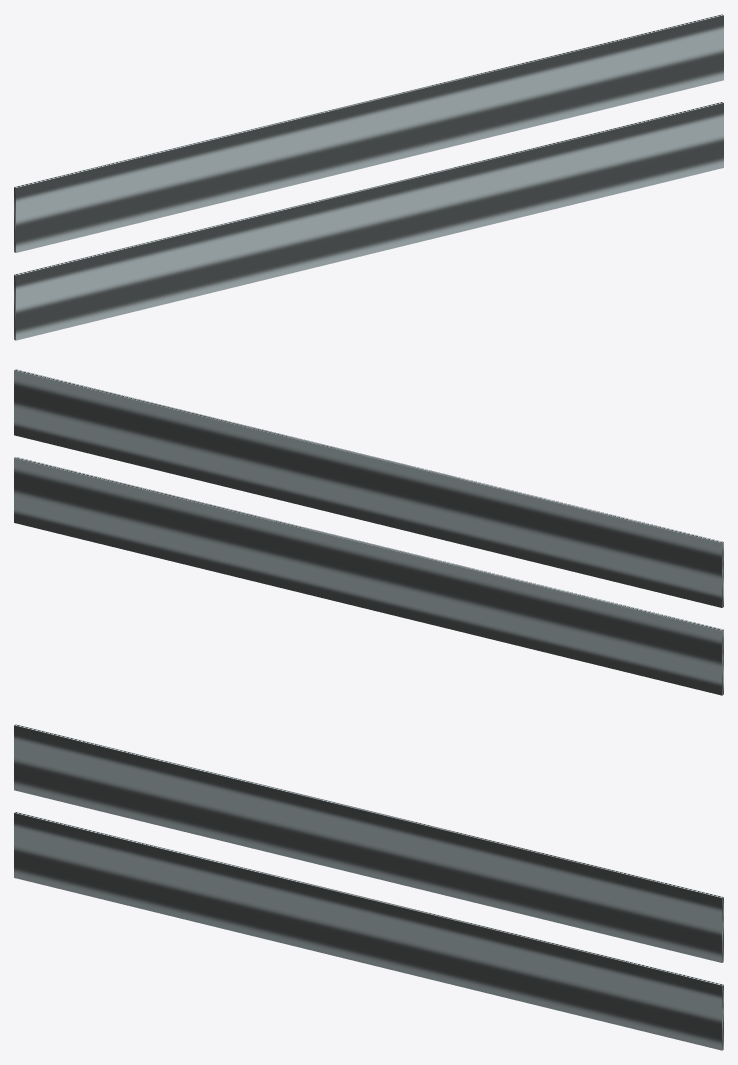
Rendered from prop_barrier_4M.FBX.
3 views of the same model, one above another, from view 1: azimuth 30°, elevation 25°; view 2: azimuth 150°, elevation 25°; view 3: azimuth 330°, elevation 25° (orthographic).
Parts seen in each view (by area): view 1: prop_barrier_4M; view 2: prop_barrier_4M; view 3: prop_barrier_4M.
Boxes of the visible parts, box(x1,y1,x2,y2) form: prop_barrier_4M: box(14, 14, 723, 340); prop_barrier_4M: box(14, 369, 723, 695); prop_barrier_4M: box(14, 724, 723, 1050).
Size of the model in its own units: 157 by 32.38 by 0.6246.
1 material, 1 textured.
